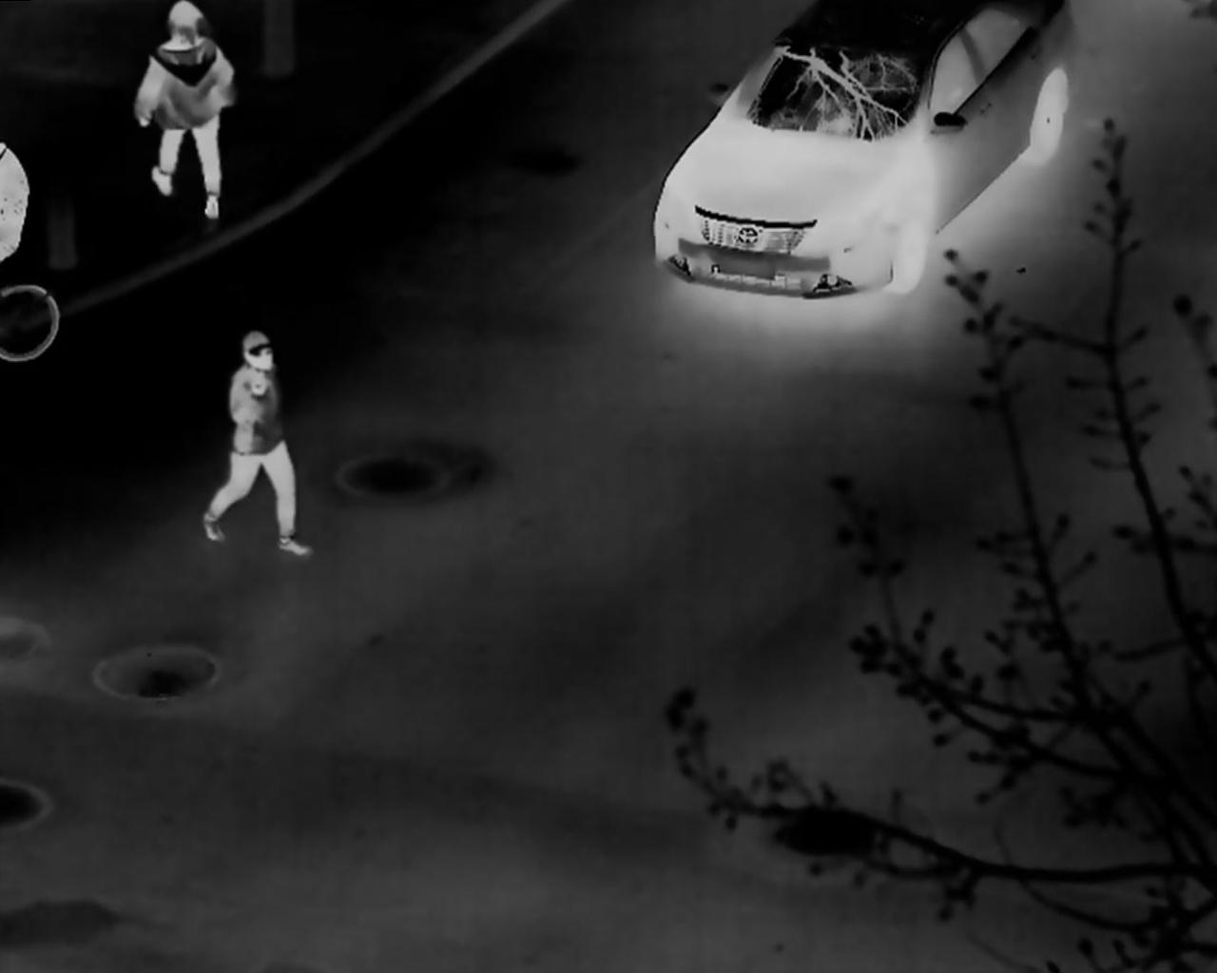person: (200, 330, 316, 557), (131, 2, 237, 221)
